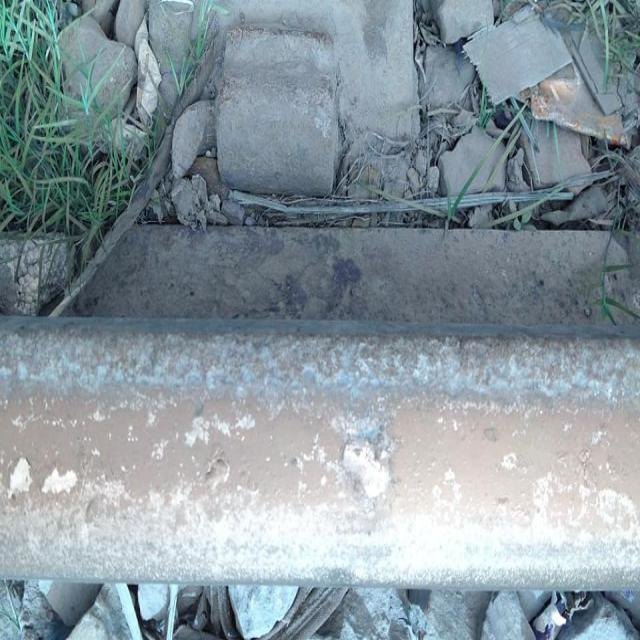head_checks_low: (2, 332, 640, 403), (334, 426, 402, 510), (1, 456, 82, 517)
